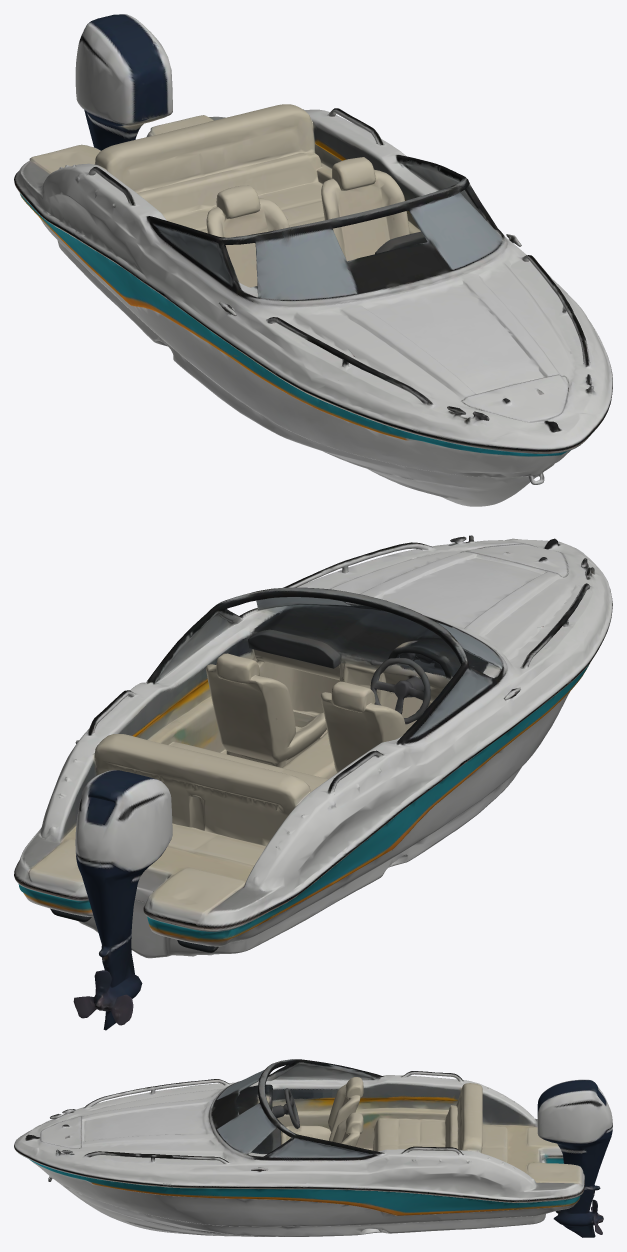
File: boat.glb
3 views of the same model, one above another, from view 1: azimuth 30°, elevation 25°; view 2: azimuth 150°, elevation 25°; view 3: azimuth 270°, elevation 25° (orthographic). The views are drawn at different scales.
Parts seen in each view (by area): view 1: tripo_node_37200a8d-4011-4025-be95-a954c05eaab5; view 2: tripo_node_37200a8d-4011-4025-be95-a954c05eaab5; view 3: tripo_node_37200a8d-4011-4025-be95-a954c05eaab5.
Part boxes in pixels (left/top/right/bottom): tripo_node_37200a8d-4011-4025-be95-a954c05eaab5: left=14, top=14, right=612, bottom=506; tripo_node_37200a8d-4011-4025-be95-a954c05eaab5: left=14, top=535, right=612, bottom=1030; tripo_node_37200a8d-4011-4025-be95-a954c05eaab5: left=14, top=1059, right=612, bottom=1237.
Bounding box in the file's own units: 0.3698 × 0.2809 × 1.
1 material, 1 textured.
